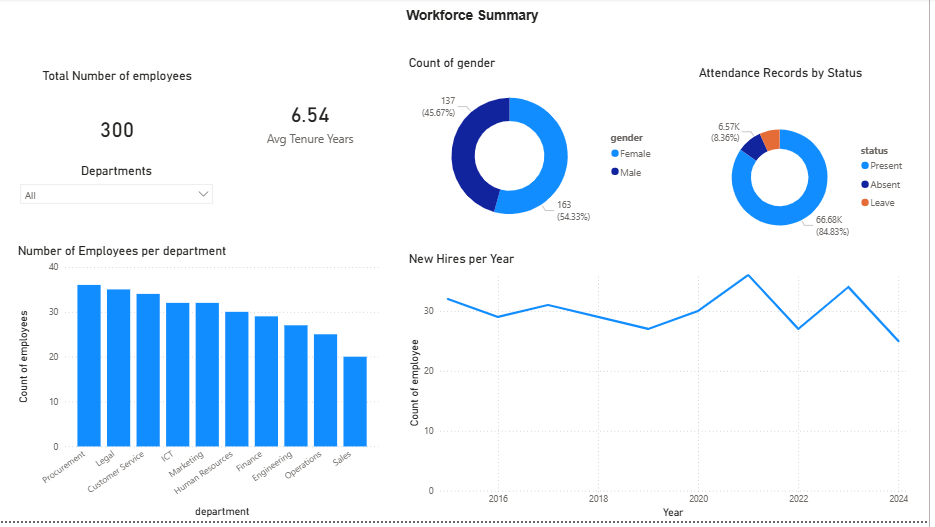

Layout of this report page (visuals, bound fields, positions):
{"tool":"powerbi","page":{"name":"Page 1","canvas":[1280,720],"ordinal":0},"visuals":[{"type":"card","title":"Total Number of employees ","fields":{"Values":["Count(public employees.employee_id)"]},"box":[20.2,95.7,283.9,147.8],"z":0},{"type":"columnChart","title":"Number of Employees per department","fields":{"Category":["public employees.public positions.department"],"Y":["CountNonNull(public employees.employee_id)"]},"box":[20.2,337.6,507.3,383],"z":1000},{"type":"donutChart","title":"Count of gender ","fields":{"Category":["public employees.gender"],"Y":["CountNonNull(public employees.gender)"]},"box":[559.4,79,352.8,258.7],"z":2000},{"type":"donutChart","title":"Attendance Records by Status","fields":{"Category":["public attendance.status"],"Y":["CountNonNull(public attendance.status)"]},"box":[957.5,92.4,299,290.6],"z":3000},{"type":"slicer","title":"Departments","fields":{"Values":["public employees.public positions.department"]},"box":[18.6,227.4,284.6,100.1],"z":5000},{"type":"textbox","box":[110.9,8.4,1080.1,38.6],"z":6000},{"type":"lineChart","title":"New Hires per Year","fields":{"Category":["public employees.hire_date.Variation.Date Hierarchy.Year"],"Y":["Count(public attendance.employee_id)"]},"box":[559.4,347.7,697.1,372.9],"z":7001},{"type":"card","fields":{"Values":["public attendance.Avg Tenure Years"]},"box":[309.1,92.4,236.9,154.5],"z":7002}]}

Visuals, with their boxes in screenshot pixels (x1, y1, x2, y2), scaled from the page's 1280x720 canvas onto the 935x527 screenshot:
"Total Number of employees " card: 15:70:222:178
"Number of Employees per department" columnChart: 15:247:385:526
"Count of gender " donutChart: 409:58:666:247
"Attendance Records by Status" donutChart: 699:68:918:280
"Departments" slicer: 14:166:221:240
textbox: 81:6:870:34
"New Hires per Year" lineChart: 409:254:918:526
card - public attendance.Avg Tenure Years: 226:68:399:181
